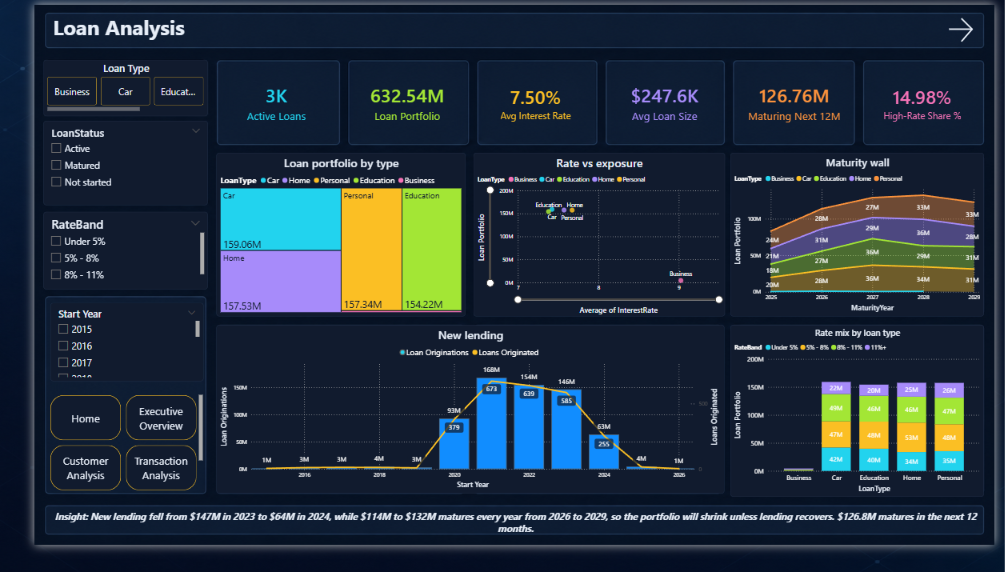

The dashboard page shown, as its layout file describes it:
{"tool":"powerbi","page":{"name":"Loan Analysis","canvas":[1920,1080],"ordinal":4},"visuals":[{"type":"cardVisual","fields":{"Data":["_Measures.Active Loans"]},"box":[336.8,108.6,296.3,174.8],"z":0},{"type":"cardVisual","fields":{"Data":["_Measures.Avg Interest Rate"]},"box":[862.2,108.5,281.7,175.1],"z":1000},{"type":"cardVisual","fields":{"Data":["_Measures.Maturing Next 12M"]},"box":[1395.1,108.6,248.5,174.8],"z":2000},{"type":"cardVisual","fields":{"Data":["_Measures.Avg Loan Size"]},"box":[1143,108.6,237.4,174.8],"z":3000},{"type":"cardVisual","fields":{"Data":["_Measures.Loan Portfolio"]},"box":[589,108.6,316.6,174.8],"z":4000},{"type":"cardVisual","fields":{"Data":["_Measures.High-Rate Share %"]},"box":[1629.2,108.5,291.2,175.1],"z":5000},{"type":"treemap","title":"Loan portfolio by type","fields":{"Group":["fact_loans.LoanType"],"Values":["_Measures.Loan Portfolio"]},"box":[364.3,295.7,498.6,327.1],"z":6000},{"type":"scatterChart","title":"Rate vs exposure","fields":{"X":["Avg(fact_loans.InterestRate)"],"Y":["_Measures.Loan Portfolio"],"Series":["fact_loans.LoanType"]},"box":[877.1,295.7,502.9,327.1],"z":7000},{"type":"stackedAreaChart","title":"Maturity wall","fields":{"Category":["fact_loans.MaturityYear"],"Y":["_Measures.Loan Portfolio"],"Series":["fact_loans.LoanType"]},"box":[1392.9,295.7,507.1,327.1],"z":8000},{"type":"columnChart","title":"Rate mix by loan type","fields":{"Category":["fact_loans.LoanType"],"Y":["_Measures.Loan Portfolio"],"Series":["fact_loans.RateBand"]},"box":[1392.9,640,507.1,344.3],"z":9000},{"type":"advancedSlicerVisual","title":"Loan Type","fields":{"Values":["fact_loans.LoanType"]},"box":[18,109,329,113],"z":10000},{"type":"slicer","fields":{"Values":["fact_loans.LoanStatus"]},"box":[18,232,329,169],"z":11000},{"type":"slicer","fields":{"Values":["fact_loans.RateBand"]},"box":[18,414.2,329,154.8],"z":12000},{"type":"slicer","fields":{"Values":["fact_loans.Start Year"]},"box":[31,595,306,157],"z":13000},{"type":"textbox","title":"Loan Analysis","box":[31.3,16.6,1746.6,92],"z":14000},{"type":"pageNavigator","box":[31.3,780.4,305.5,196.9],"z":15000},{"type":"actionButton","box":[1821.4,19.5,69.9,60.7],"z":16000},{"type":"lineClusteredColumnComboChart","title":"New lending","fields":{"Category":["fact_loans.Start Year"],"Y":["_Measures.Loan Originations"],"Y2":["_Measures.Loans Originated"]},"box":[364.8,640.9,1015.9,337.5],"z":17000},{"type":"textbox","title":"Insight: New lending fell from $147M in 2023 to $64M in 2024, while $114M to $132M matures every year from 2026 to 2029, so the portfolio will shrink unless lending recovers. $126.8M matures in the ne","box":[31.3,1010.4,1860.7,49.7],"z":18000}]}

Visuals, with their boxes in screenshot pixels (x1, y1, x2, y2), scaled from the page's 1920x1080 canvas onto the 1005x572 screenshot:
cardVisual - _Measures.Active Loans: bbox=[176, 58, 331, 150]
cardVisual - _Measures.Avg Interest Rate: bbox=[451, 57, 599, 150]
cardVisual - _Measures.Maturing Next 12M: bbox=[730, 58, 860, 150]
cardVisual - _Measures.Avg Loan Size: bbox=[598, 58, 723, 150]
cardVisual - _Measures.Loan Portfolio: bbox=[308, 58, 474, 150]
cardVisual - _Measures.High-Rate Share %: bbox=[853, 57, 1004, 150]
"Loan portfolio by type" treemap: bbox=[191, 157, 452, 330]
"Rate vs exposure" scatterChart: bbox=[459, 157, 722, 330]
"Maturity wall" stackedAreaChart: bbox=[729, 157, 995, 330]
"Rate mix by loan type" columnChart: bbox=[729, 339, 995, 521]
"Loan Type" advancedSlicerVisual: bbox=[9, 58, 182, 118]
slicer - fact_loans.LoanStatus: bbox=[9, 123, 182, 212]
slicer - fact_loans.RateBand: bbox=[9, 219, 182, 301]
slicer - fact_loans.Start Year: bbox=[16, 315, 176, 398]
"Loan Analysis" textbox: bbox=[16, 9, 931, 58]
pageNavigator: bbox=[16, 413, 176, 518]
actionButton: bbox=[953, 10, 990, 42]
"New lending" lineClusteredColumnComboChart: bbox=[191, 339, 723, 518]
"Insight: New lending fell from $147M in 2023 to $64M in 2024, while $114M to $132M matures every year from 2026 to 2029, so the portfolio will shrink unless lending recovers. $126.8M matures in the ne" textbox: bbox=[16, 535, 990, 561]
